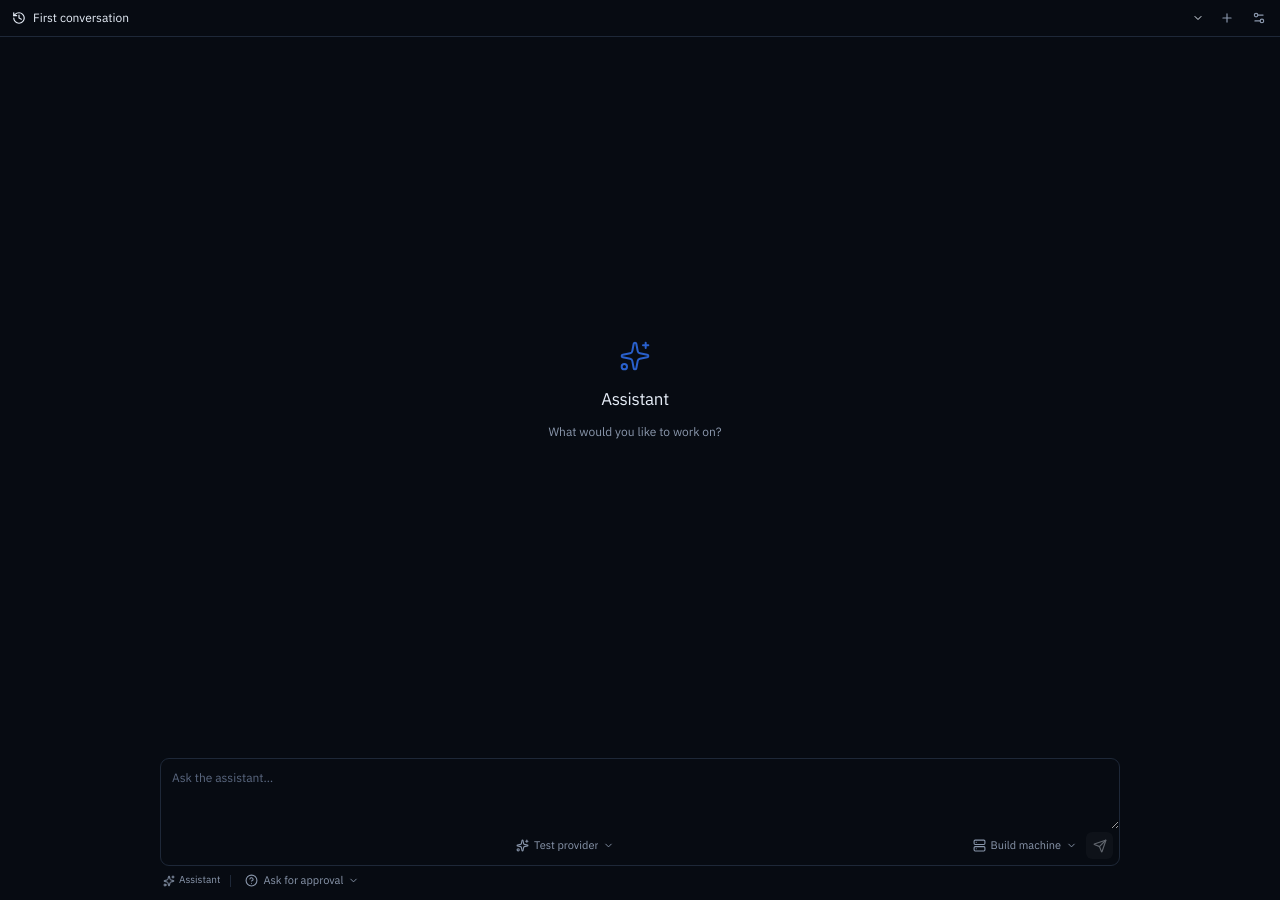
it: agent preparation › requires initialization for the selected permission mode and sends that mode to the plugin
The image size is (1280, 900).
Type "Keep this draft" into the text box named "Message" at (640, 794), box [161,759,1119,829]
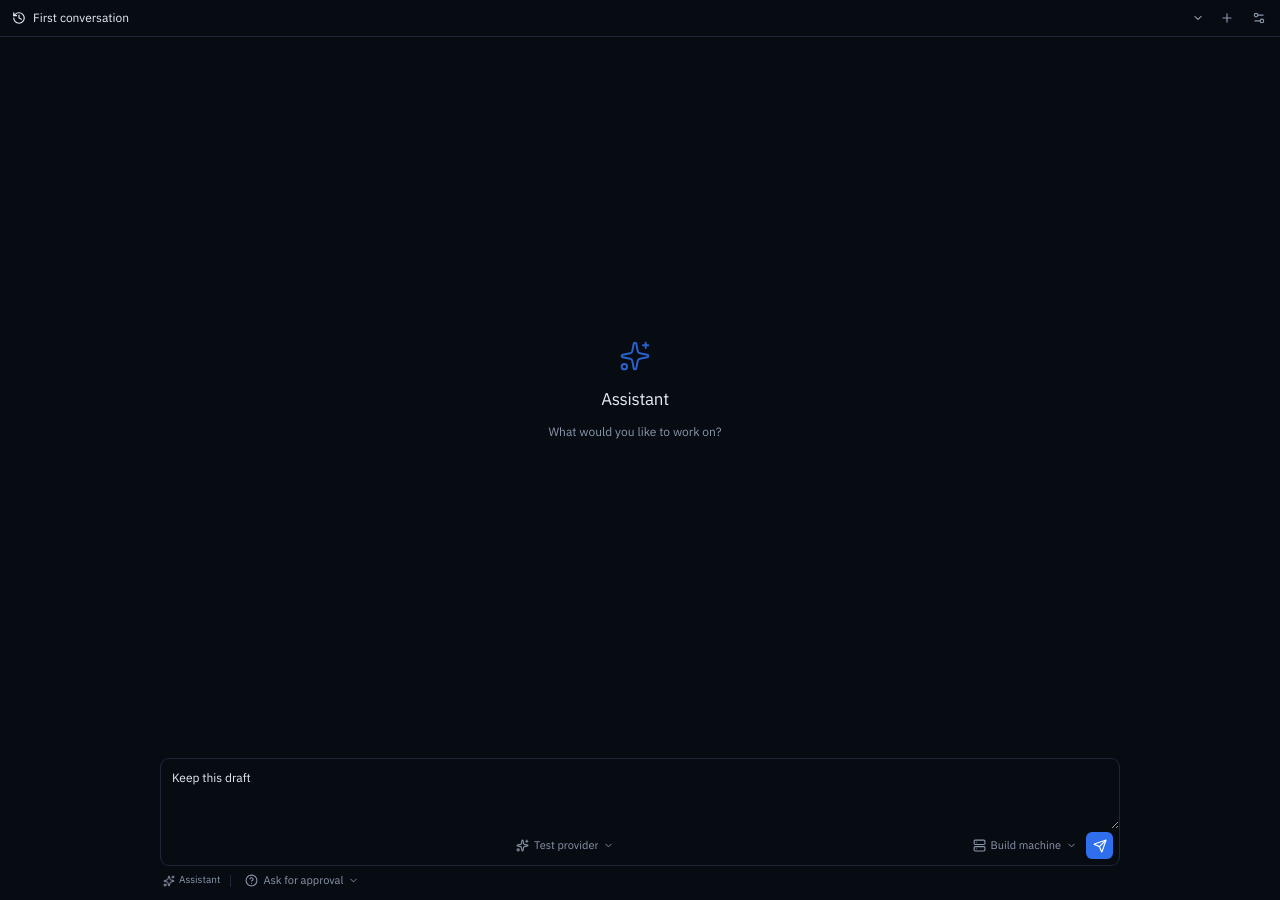
expect the button named "Send" is shown: met, box [1086,832,1113,859]
Click the button with aria-label "Approval mode" at (302, 880), box [238,868,366,893]
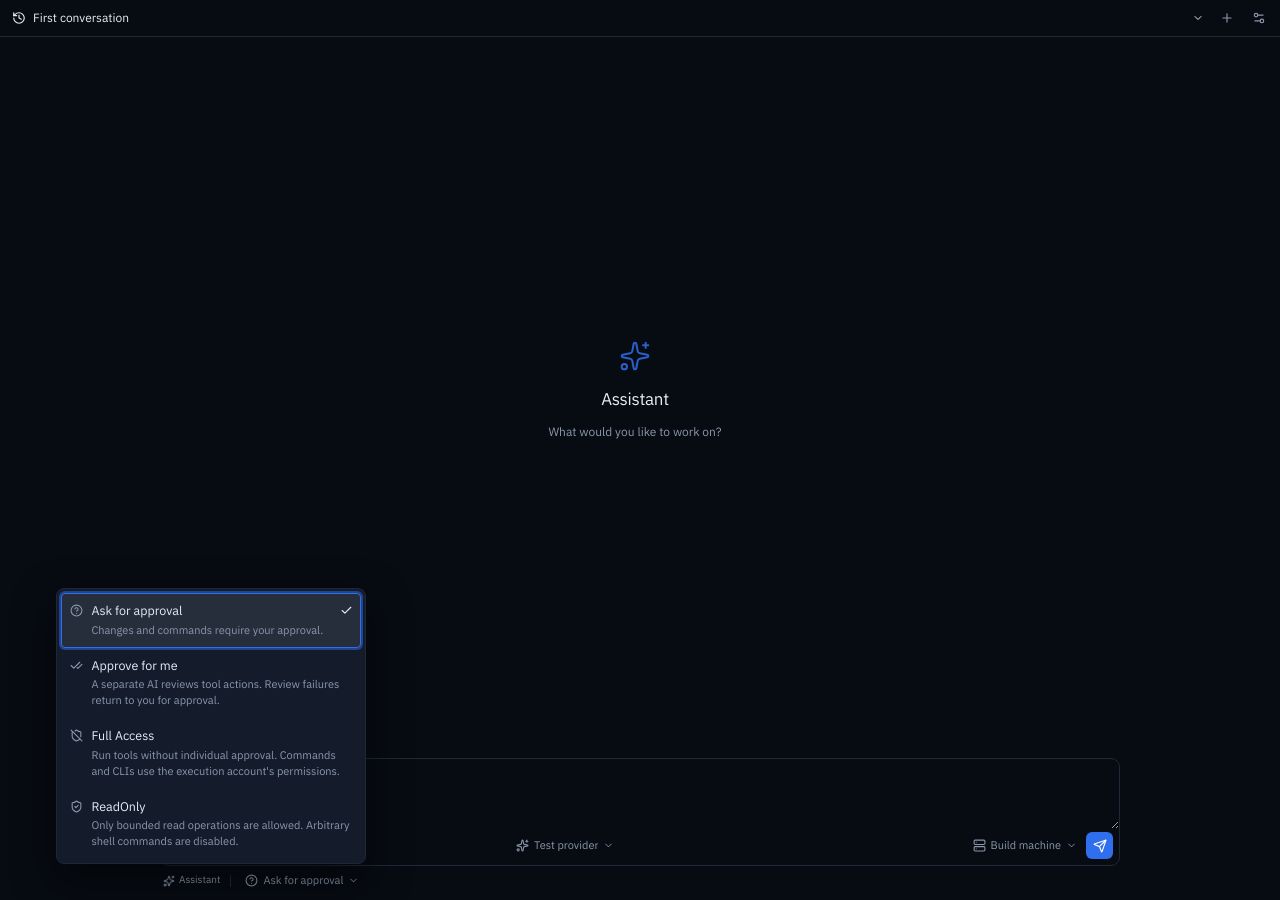
Click the menu item "Approve for me" at (211, 683), box [61,648,361,718]
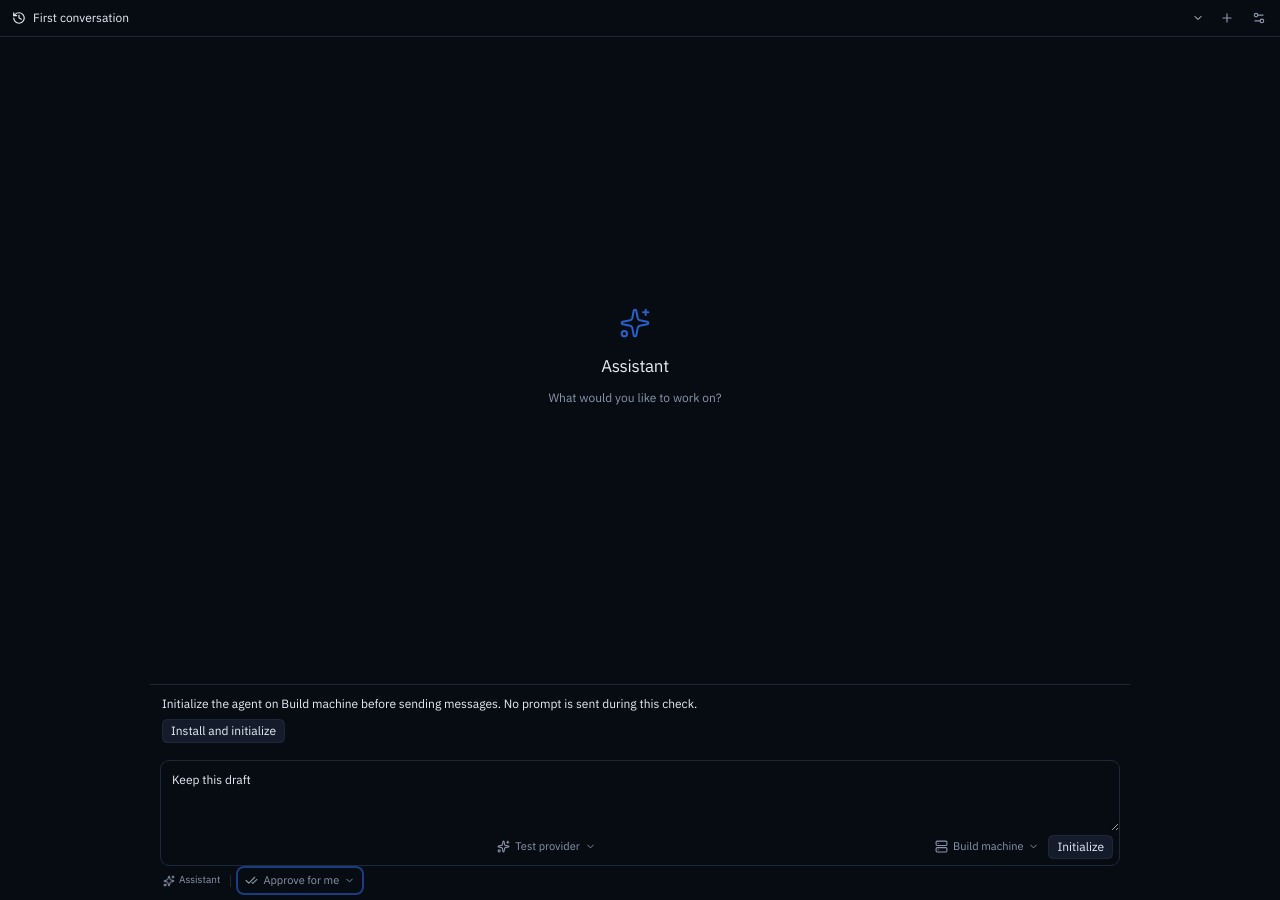
Press Enter in the text box named "Message", box [161,761,1119,831]
Click the button "Initialize" at (1081, 846), box [1048,834,1113,858]
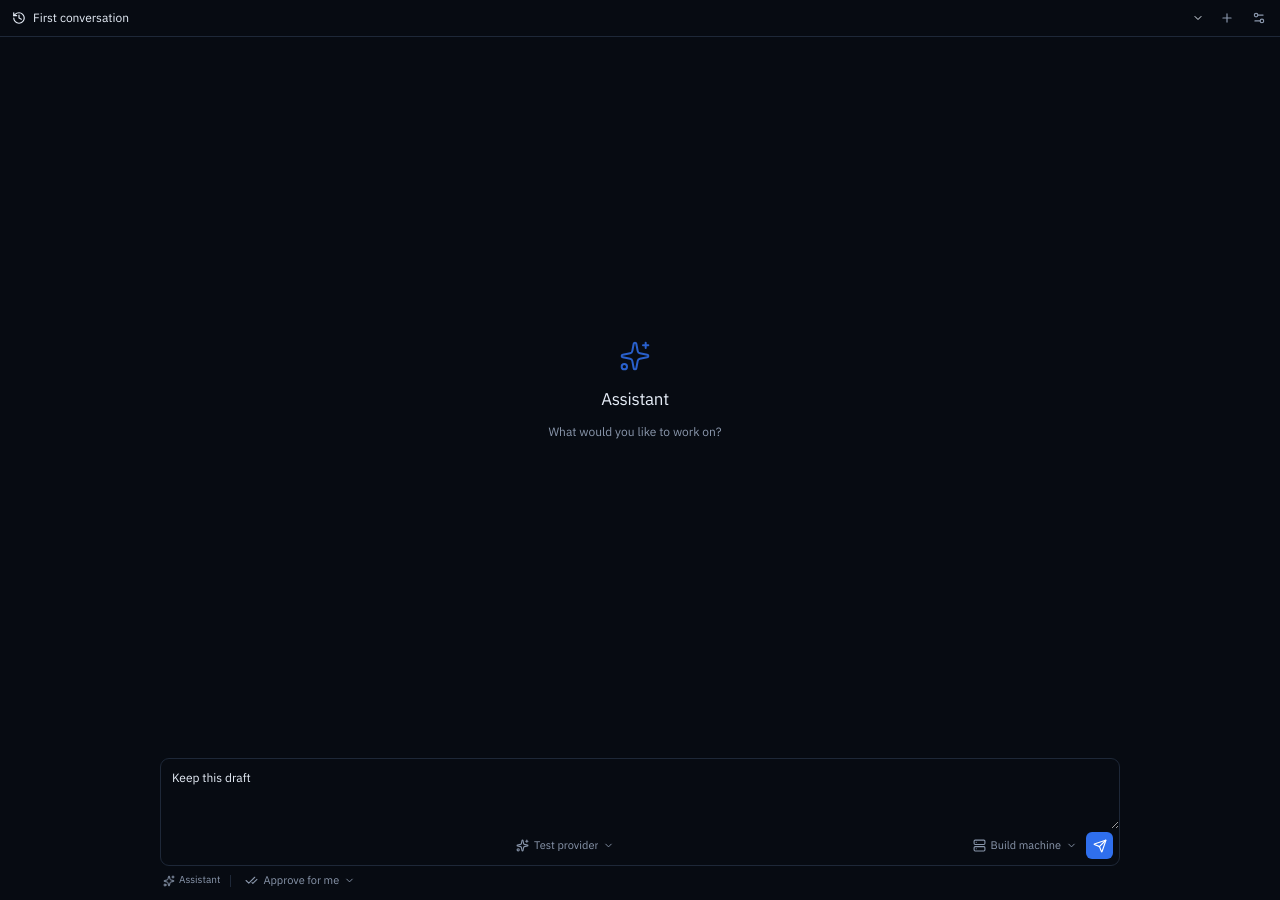
expect the button named "Send" is shown: met, box [1086,832,1113,859]
